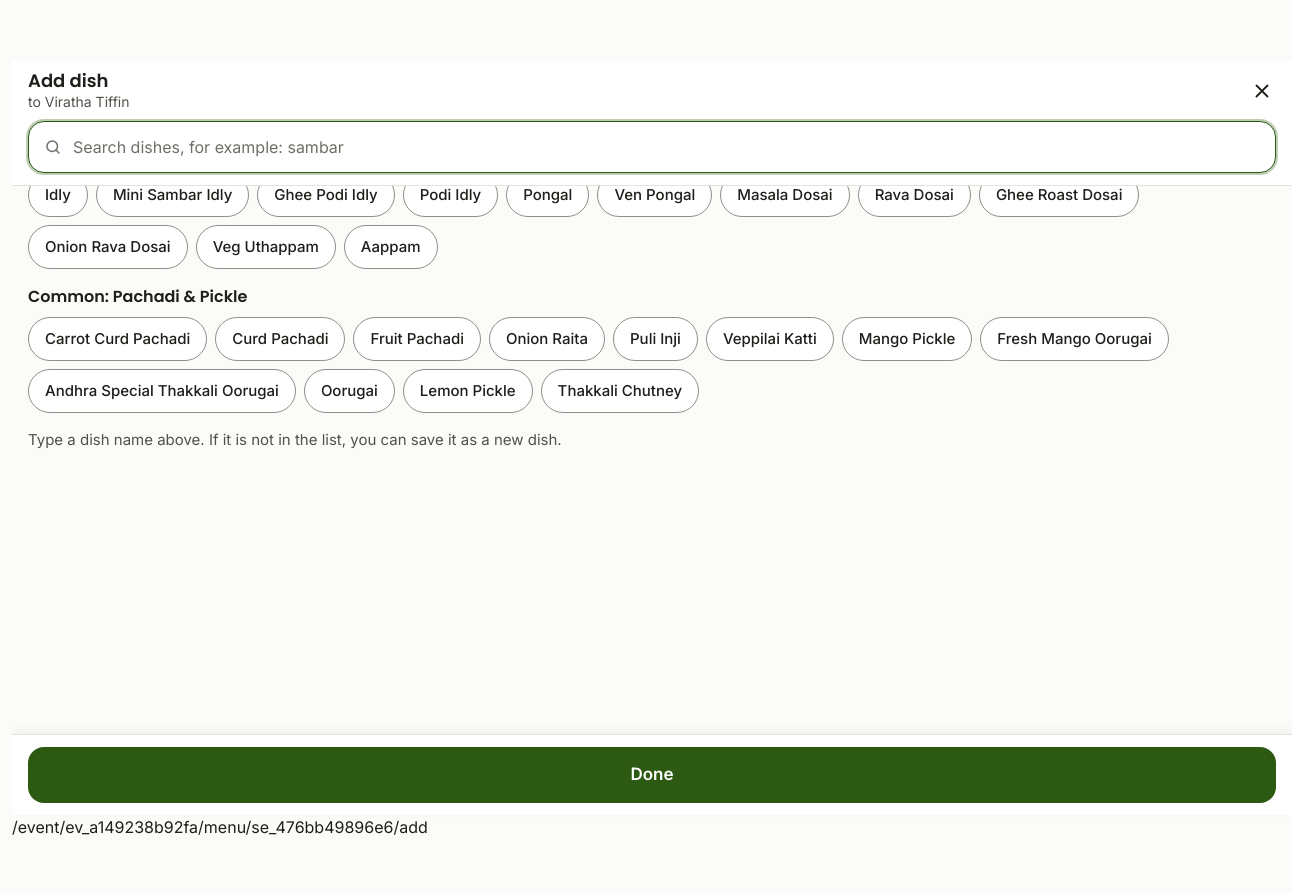
Scenario: Add dish › search "sam" then tapping Samosa adds it
This screenshot has width=1292, height=893.
Later steps or results of the test are not shown.
Type "s" into the field labelled "Search dishes" at (652, 147), box 28,121 -> 1276,173
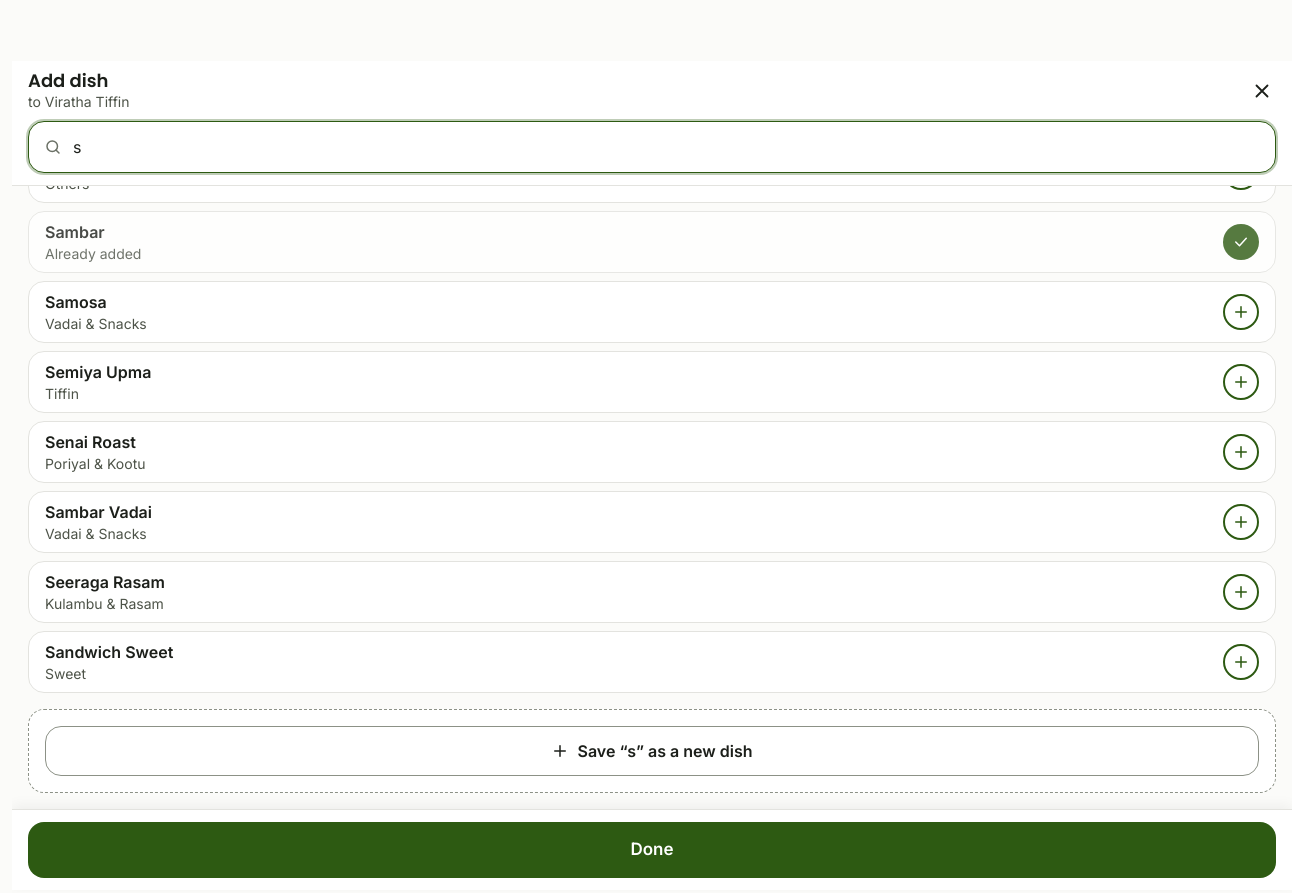
Replace the text in the field named "Search dishes" with "sa" at (652, 147), box 28,121 -> 1276,173
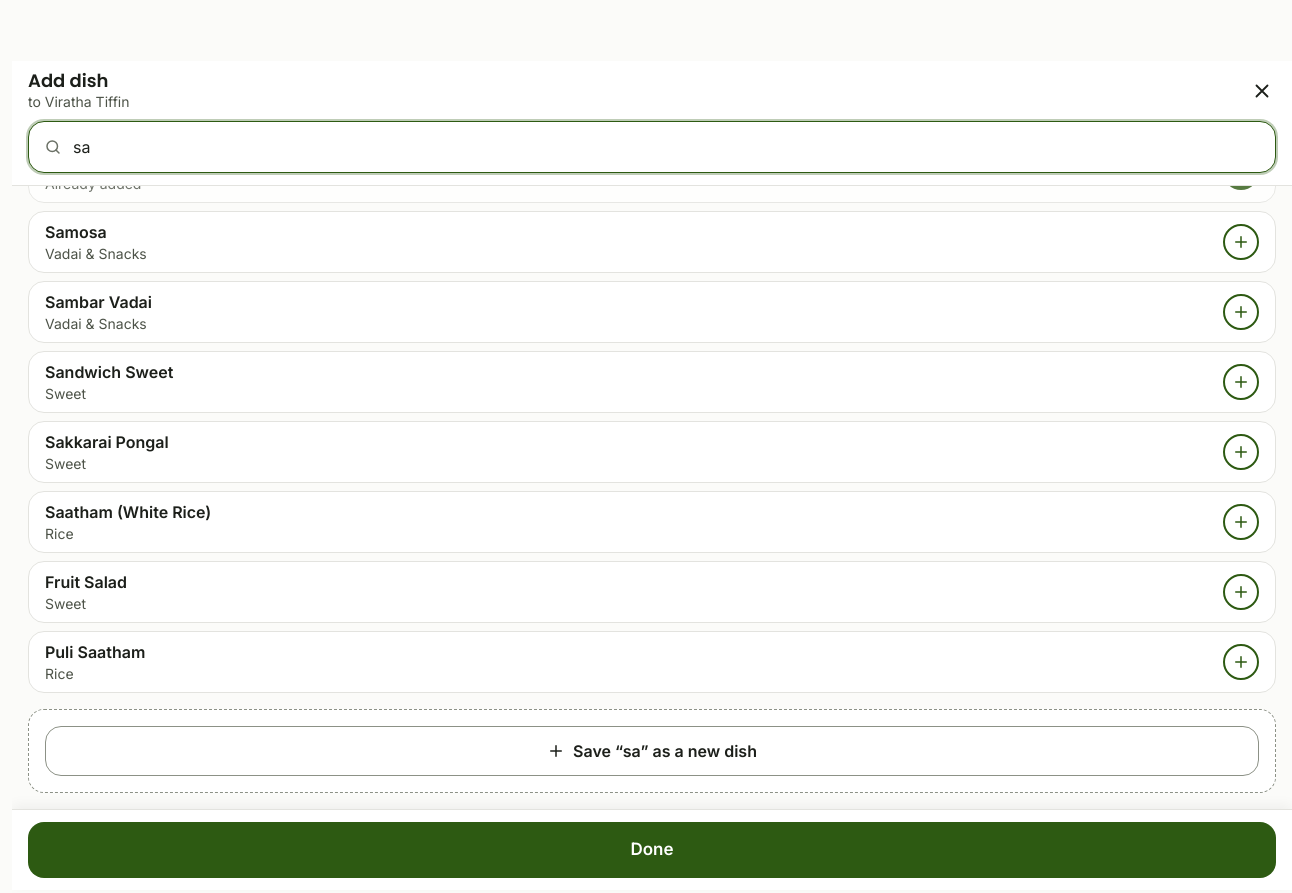
Replace the text in the field named "Search dishes" with "sam" at (652, 147), box 28,121 -> 1276,173
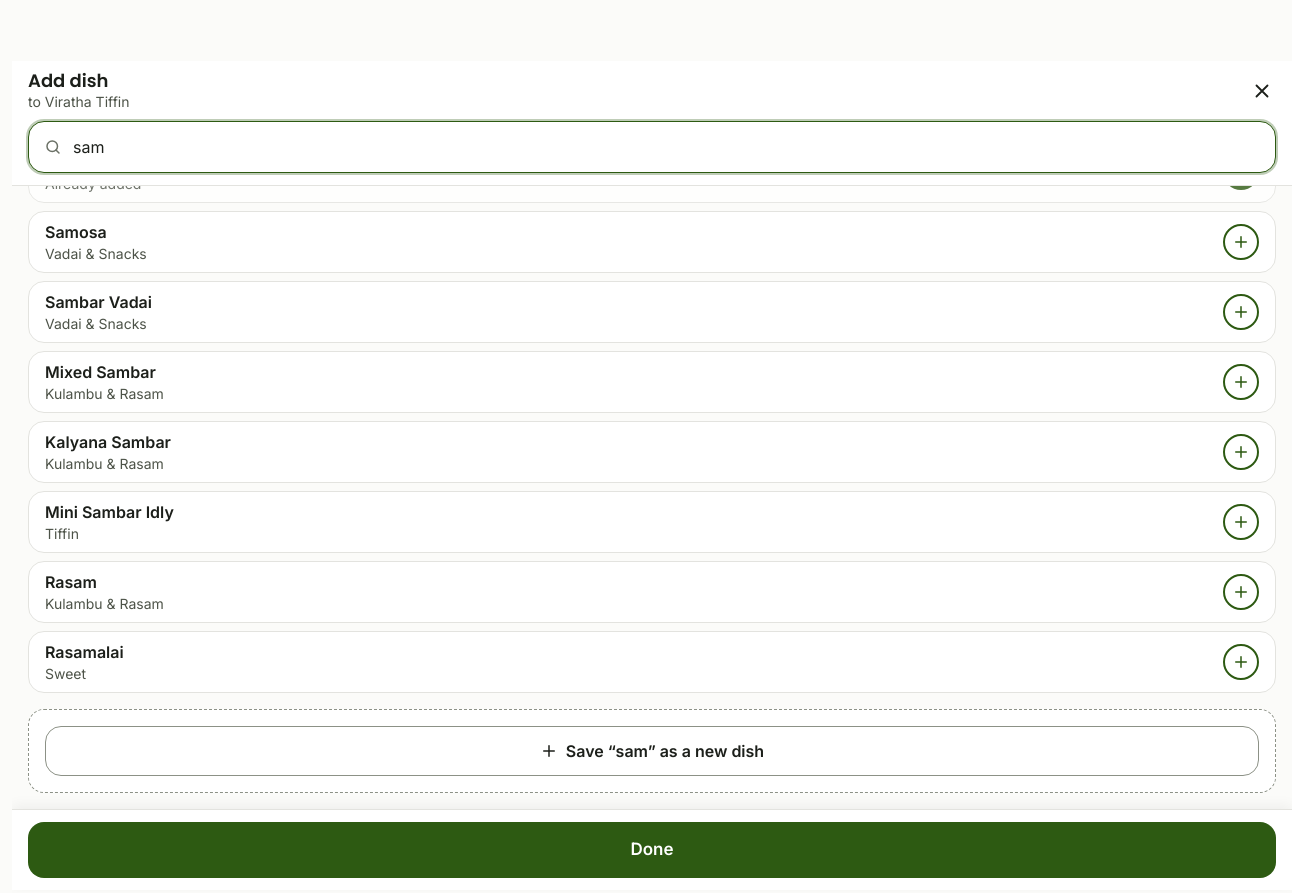
Click the button "Samosa Vadai & Snacks" at (76, 232), box 28,211 -> 1276,273
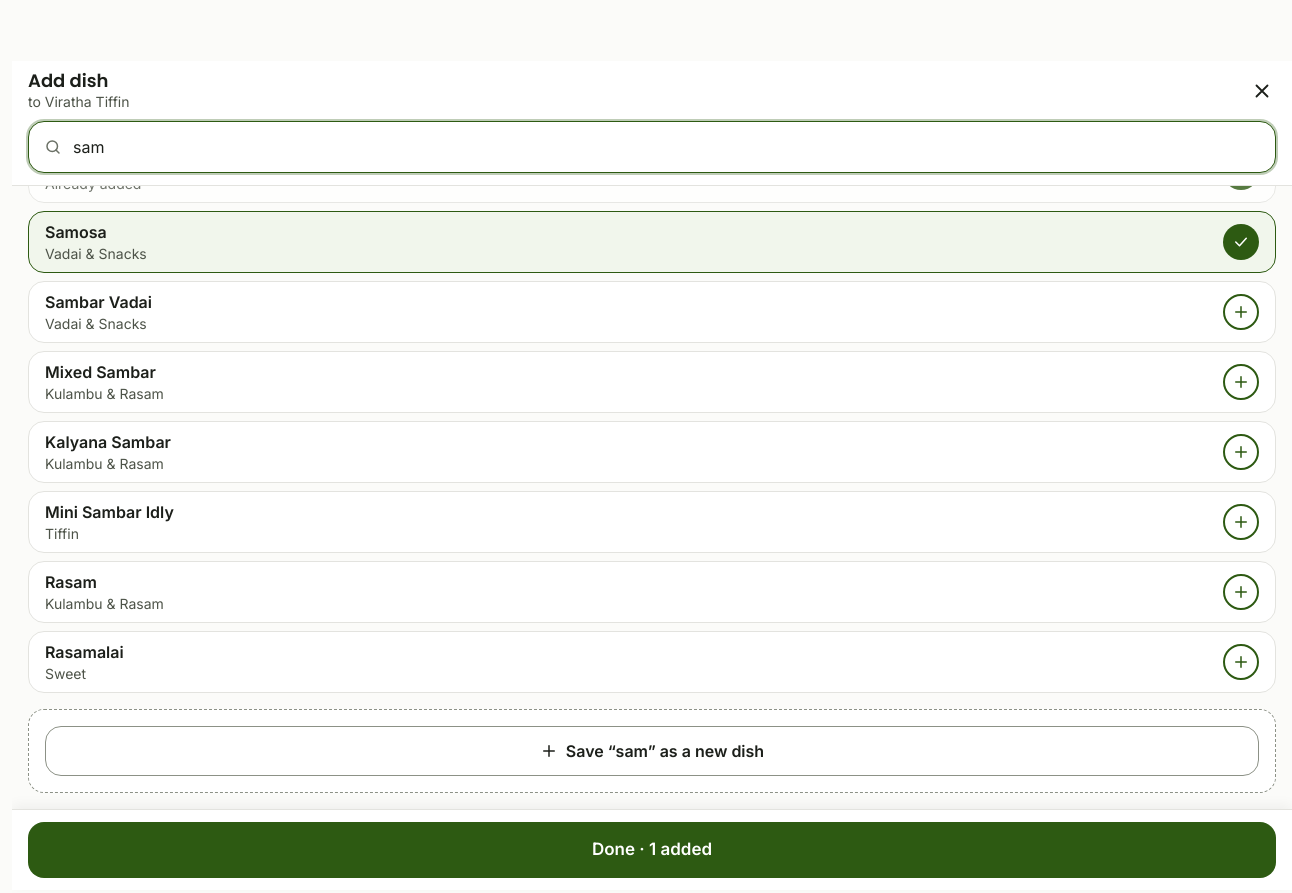
Now the text "Samosa" is shown, box 45,222 -> 107,242
Now the link "Done · 1 added" is shown, box 28,822 -> 1276,878
